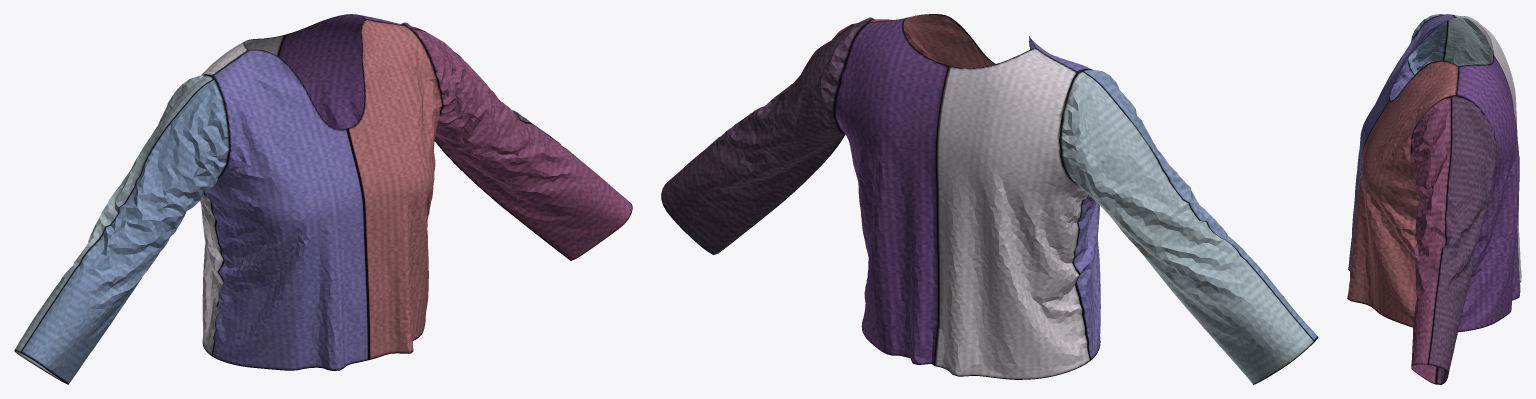
File: valid_garment_upper_sim.obj
3 renders of one model, left to right at view 1: azimuth 30°, elevation 25°; view 2: azimuth 150°, elevation 25°; view 3: azimuth 270°, elevation 25°, orthographic. The views are drawn at different scales.
Size of the model in its own units: 104 by 47.69 by 30.03.
1 material, 1 textured.
